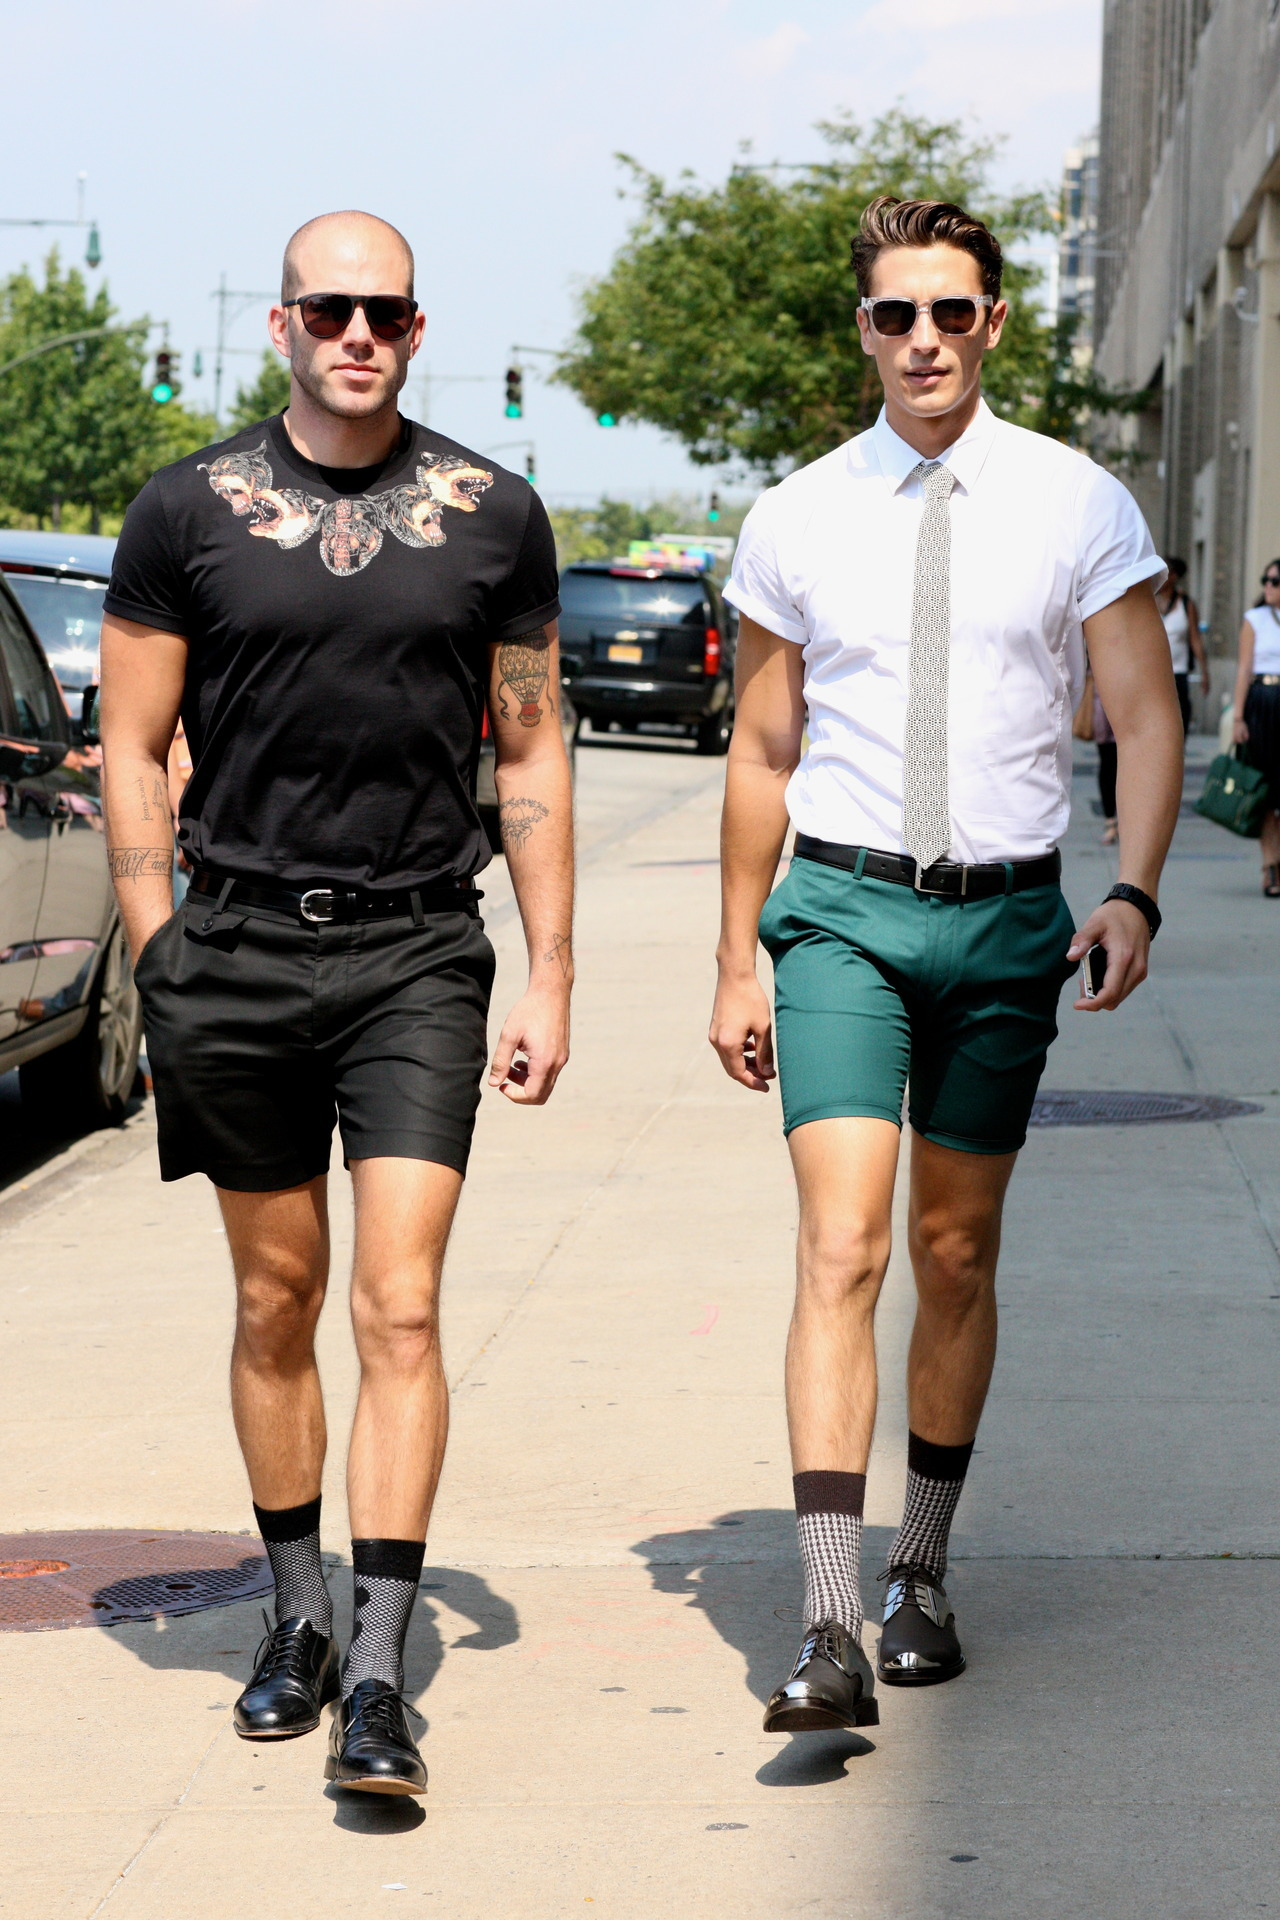Person: (102, 206, 571, 1798), (715, 202, 1186, 1733)
